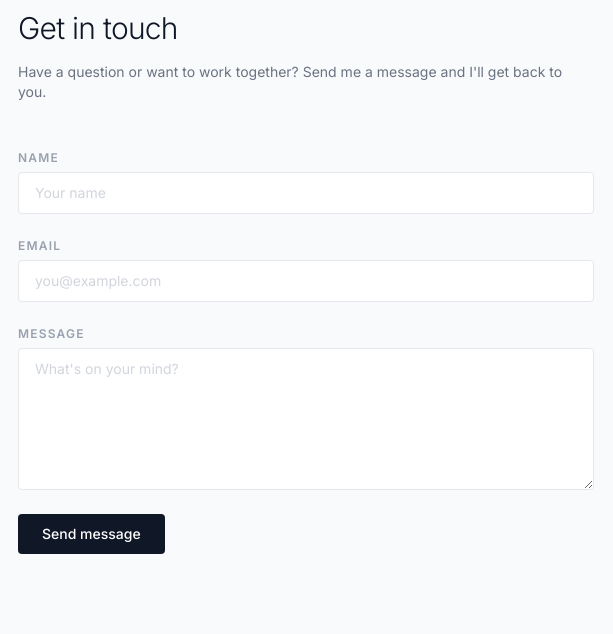
Test case: Contact component › should display error message when submission fails
Type "Bob" into the field labelled "Name" at (306, 193), box left=18, top=172, right=594, bottom=214
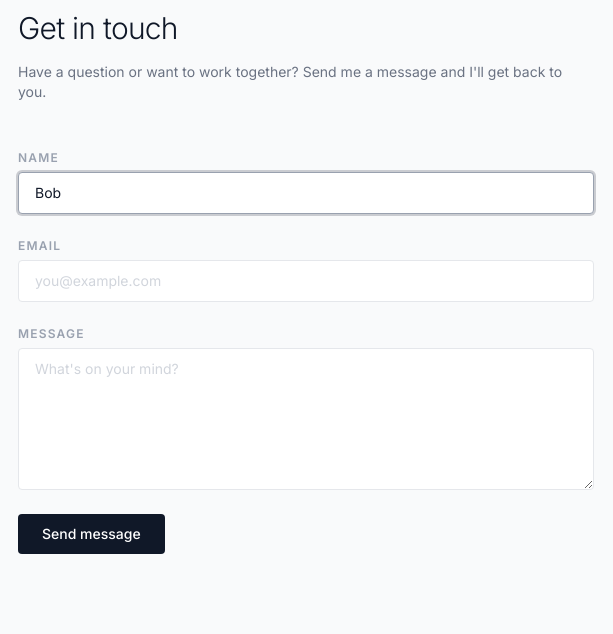
Type "bob@example.com" into the field labelled "Email" at (306, 281), box left=18, top=260, right=594, bottom=302
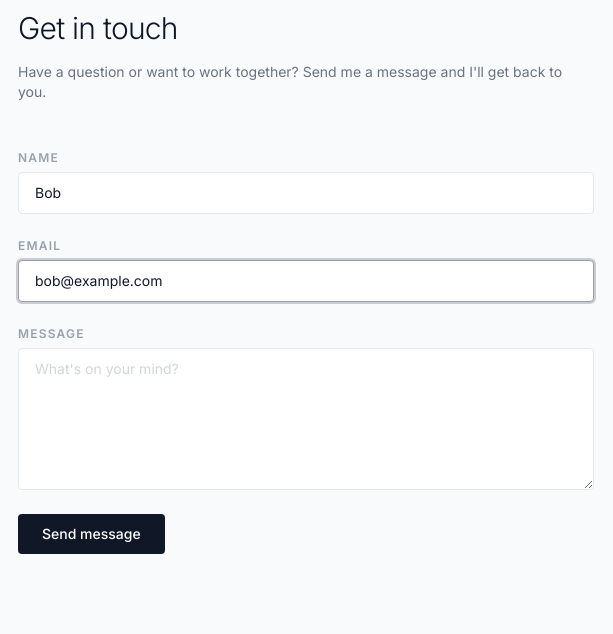
Type "Testing error handling." into the text box labelled "Message" at (306, 419), box left=18, top=348, right=594, bottom=490
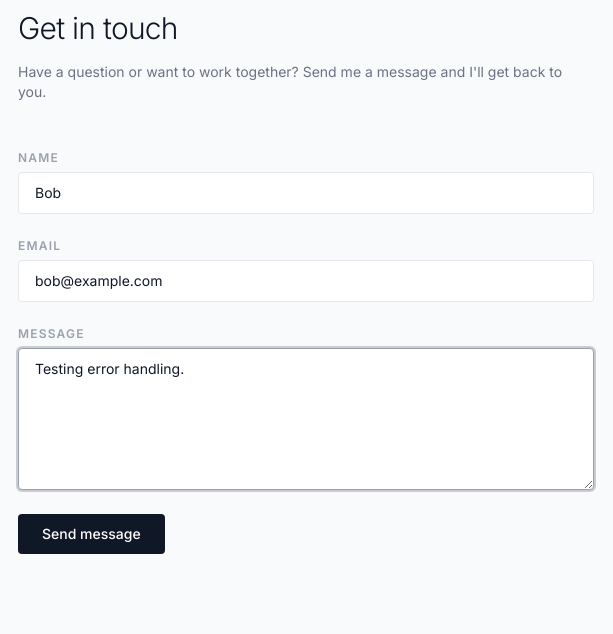
Click the button "Send message" at (91, 534), box left=18, top=514, right=165, bottom=554
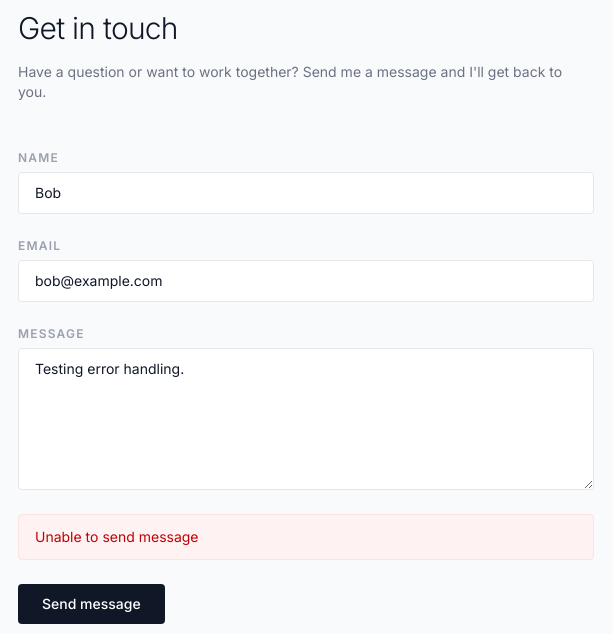
Now the message reads "Unable to send message", box left=35, top=528, right=198, bottom=545
